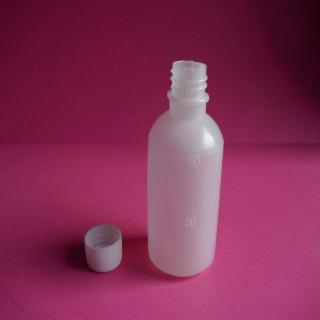Plastic-bottle: (143, 55, 227, 282)
